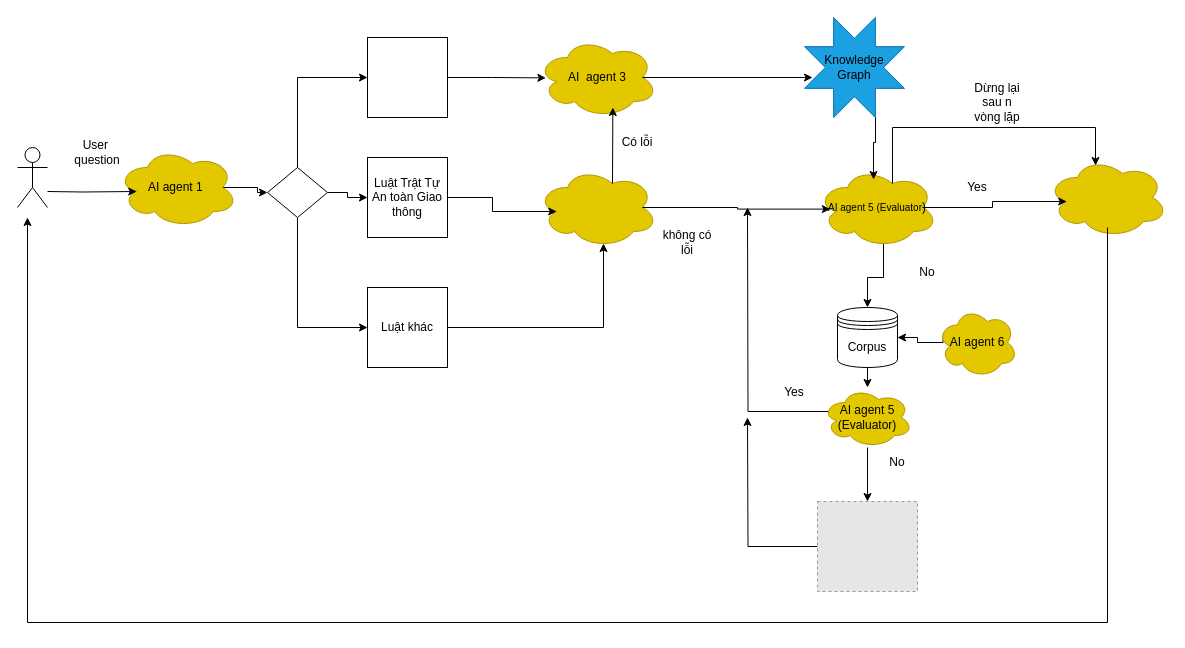
This 1185x648 diagram has some shape labels left out. Grey dashed boxes stand in for pictures. The centre of each missing label's shape, as x and y in pixels:
"Actor" goes at [32,177].
"AI agent 2" goes at [597,207].
"LLM" goes at [1107,197].
"Nghị định 168" goes at [407,77].
